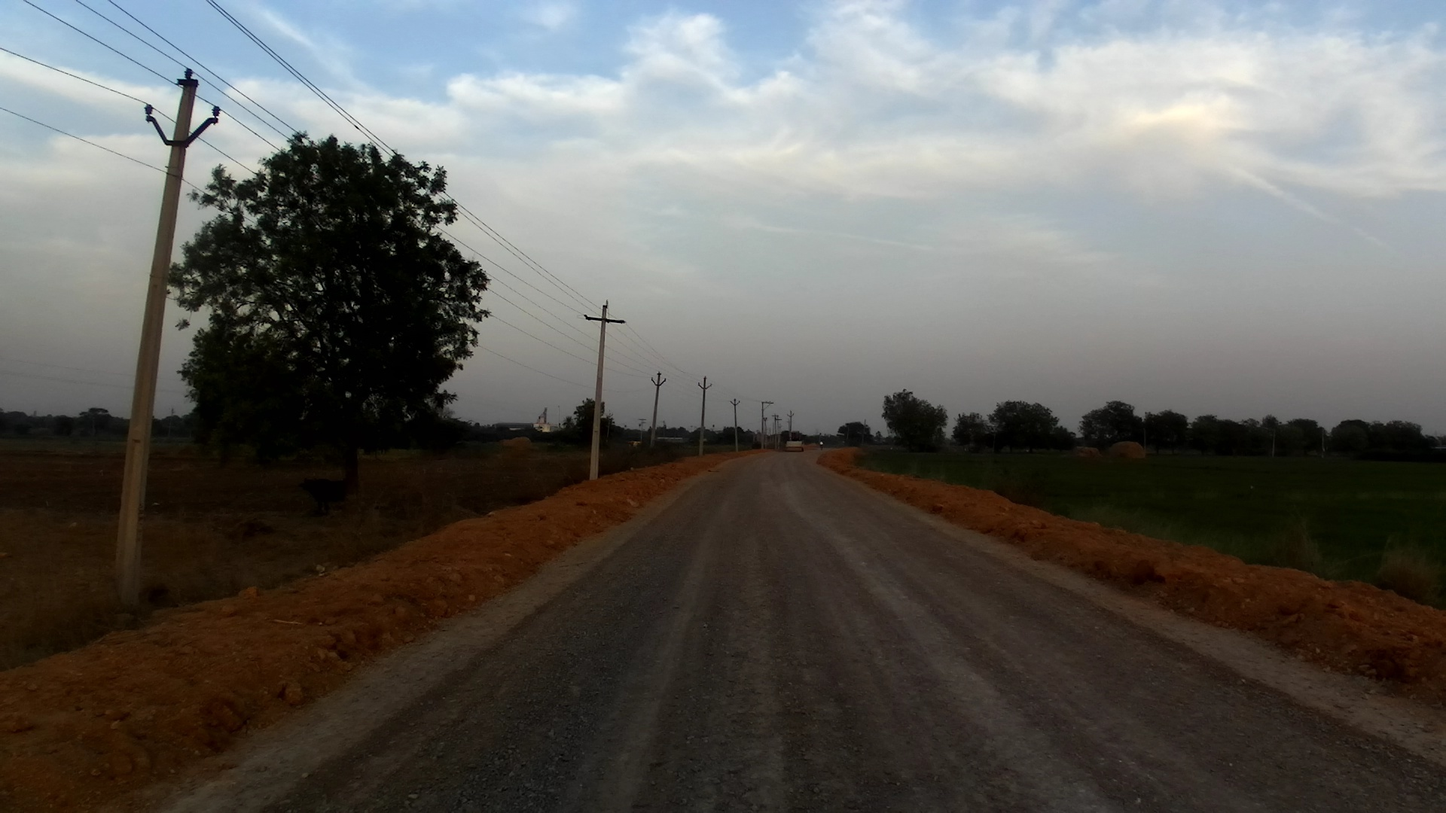car: (787, 437, 802, 452)
person: (819, 437, 824, 450)
